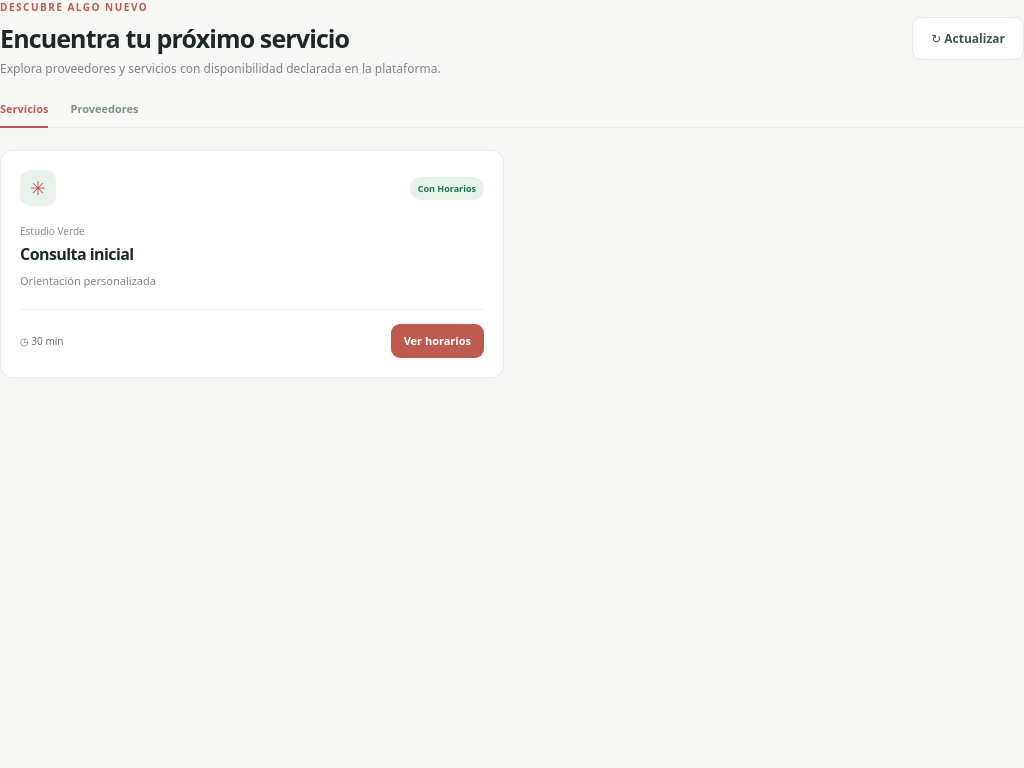
Scenario: ExplorePage › shows an occupied time as unavailable and prevents selecting it
Click the button "Ver horarios" at (437, 341), box [391, 324, 484, 358]
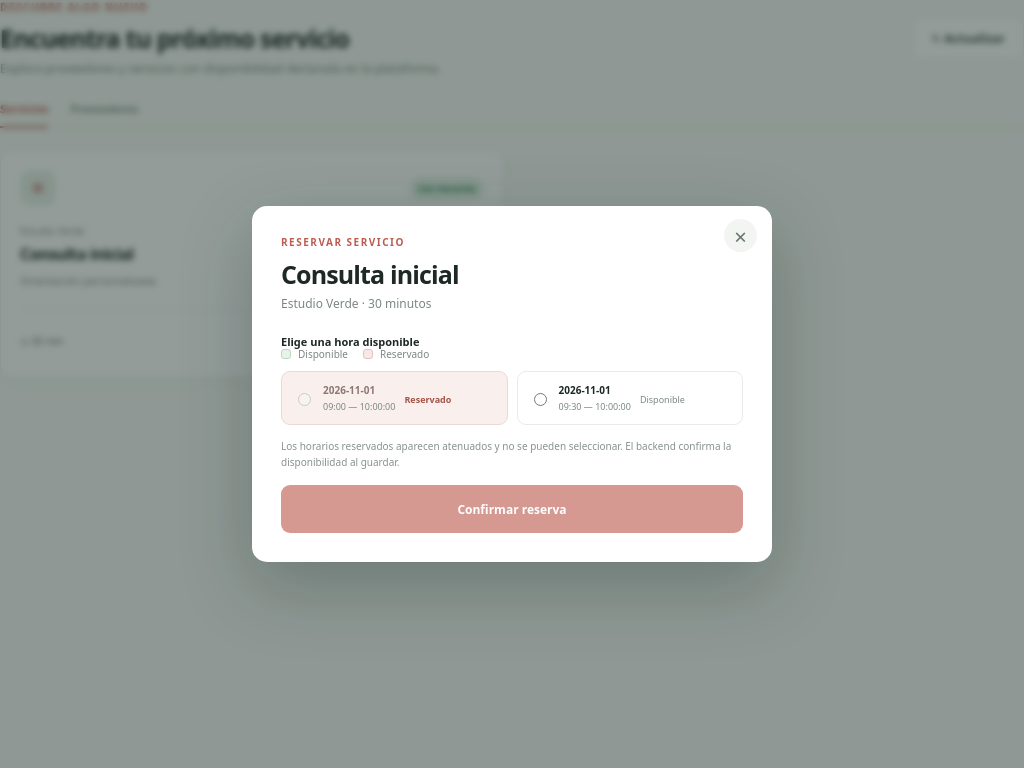
Now the radio button labelled "2026-11-01 09:00 — 10:00:00 Reservado" is disabled, box [298, 393, 311, 406]
Now the button "Confirmar reserva" is disabled, box [281, 485, 743, 533]
